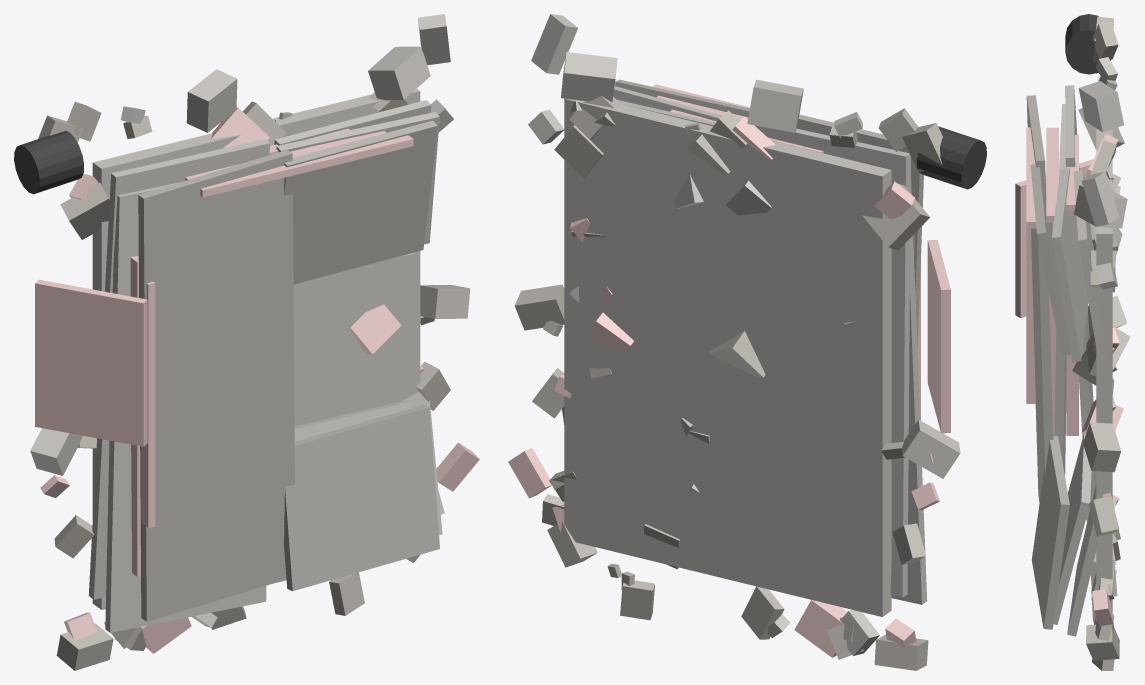
File: collapsed_pancake_2f.glb
3 renders of one model, left to right at view 1: azimuth 30°, elevation 25°; view 2: azimuth 150°, elevation 25°; view 3: azimuth 270°, elevation 25°, orthographic. The views are drawn at different scales.
Visible parts, largest first — view 1: roof, concrete, pink, rubble, tank; view 2: concrete, rubble, pink, roof, tank; view 3: concrete, roof, pink, rubble, tank.
Part boxes in pixels (x1=…): roof: x1=138, y1=120, x2=439, y2=621; concrete: x1=30, y1=14, x2=453, y2=648; pink: x1=35, y1=107, x2=479, y2=653; rubble: x1=38, y1=92, x2=470, y2=670; tank: x1=14, y1=131, x2=83, y2=194; concrete: x1=528, y1=14, x2=960, y2=655; rubble: x1=514, y1=96, x2=942, y2=670; pink: x1=508, y1=84, x2=950, y2=657; roof: x1=615, y1=79, x2=923, y2=346; tank: x1=917, y1=126, x2=986, y2=189; concrete: x1=1051, y1=57, x2=1127, y2=640; roof: x1=1026, y1=95, x2=1070, y2=629; pink: x1=1015, y1=127, x2=1123, y2=632; rubble: x1=1072, y1=16, x2=1130, y2=670; tank: x1=1065, y1=14, x2=1110, y2=74.
Size of the model in its own units: 13.36 by 16.12 by 3.18.
